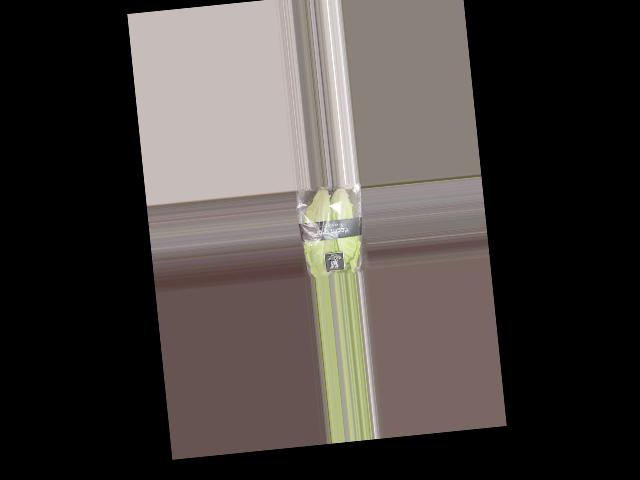lettuce: (299, 182, 368, 277)
